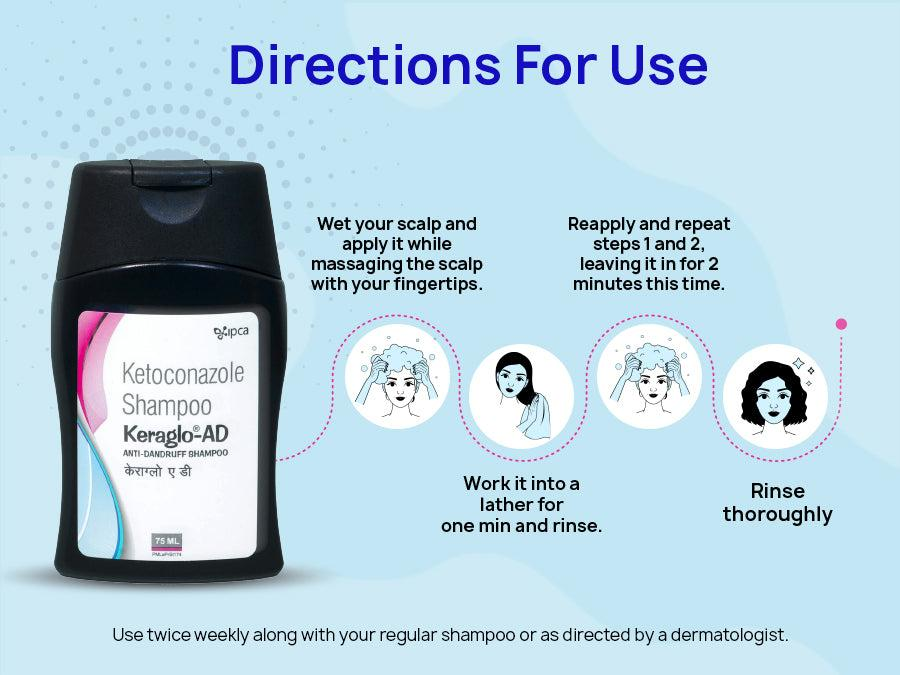KeraGlo: (48, 156, 293, 590)
